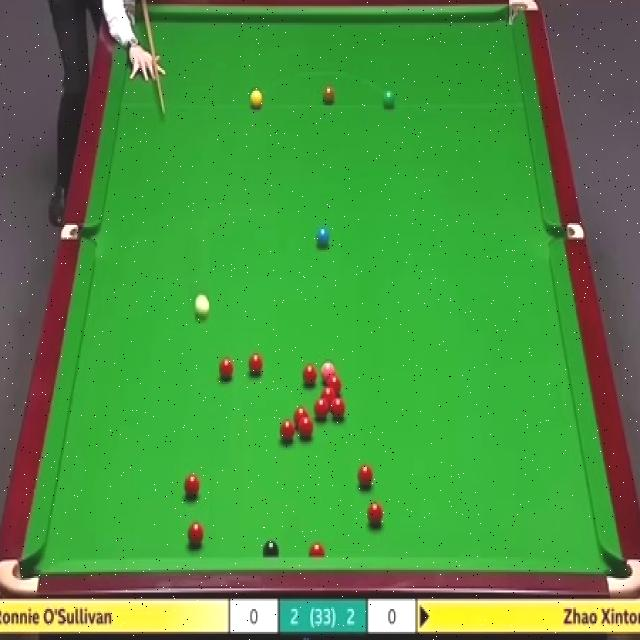black-ball: (263, 541, 280, 557)
blue-ball: (316, 228, 330, 246)
brown-ball: (323, 86, 335, 105)
green-ball: (382, 87, 396, 110)
pink-ball: (321, 361, 335, 382)
red-ball: (324, 374, 342, 398), (187, 524, 204, 548), (329, 393, 345, 418), (300, 365, 318, 387), (183, 474, 201, 496), (248, 350, 264, 374), (358, 464, 374, 488), (368, 502, 383, 527), (280, 418, 294, 443), (218, 358, 233, 380), (313, 397, 328, 419), (294, 407, 308, 427), (300, 417, 313, 437), (308, 543, 326, 556)
white-ball: (193, 293, 210, 321)
yellow-ball: (250, 88, 263, 110)
